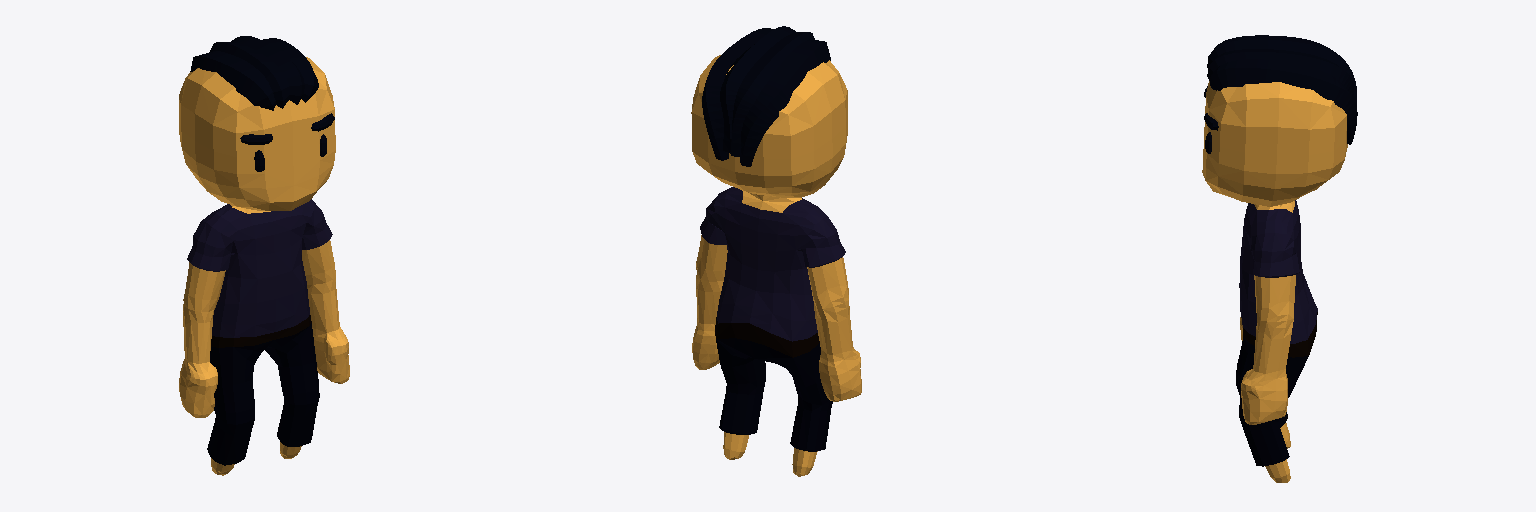
File: Casual2_Male.obj
3 renders of one model, left to right at view 1: azimuth 30°, elevation 25°; view 2: azimuth 150°, elevation 25°; view 3: azimuth 270°, elevation 25°, orthographic.
Visible parts, largest first — view 1: Body; view 2: Body; view 3: Body.
Boxes of the visible parts, box(x1,y1,x2,y2) form: Body: box(179, 36, 349, 475); Body: box(691, 26, 861, 476); Body: box(1202, 35, 1357, 482).
Bounding box in the file's own units: 1.29 × 3.17 × 1.06.